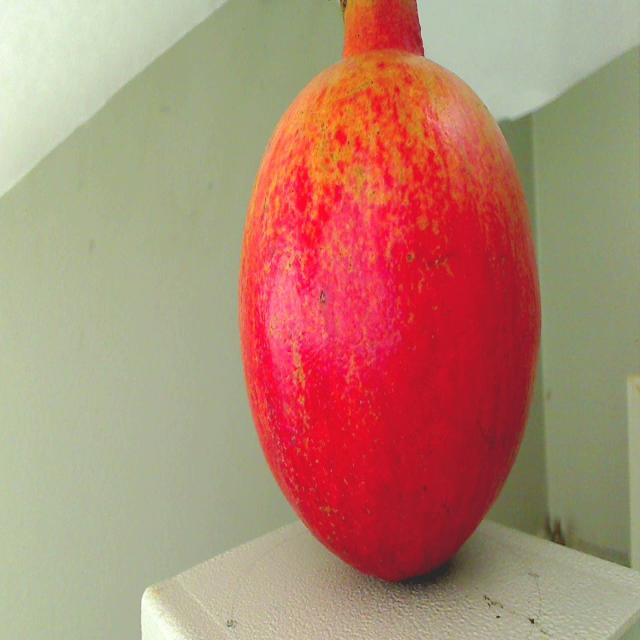pomegranate: (228, 0, 559, 592)
